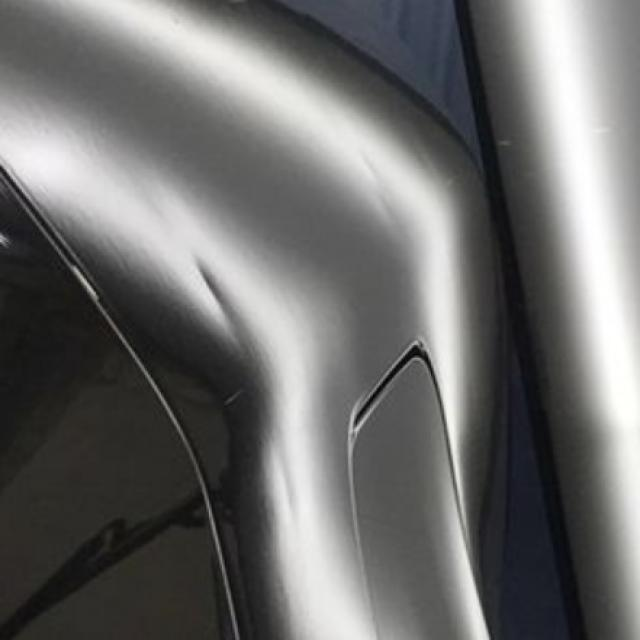dents: (182, 222, 326, 534)
